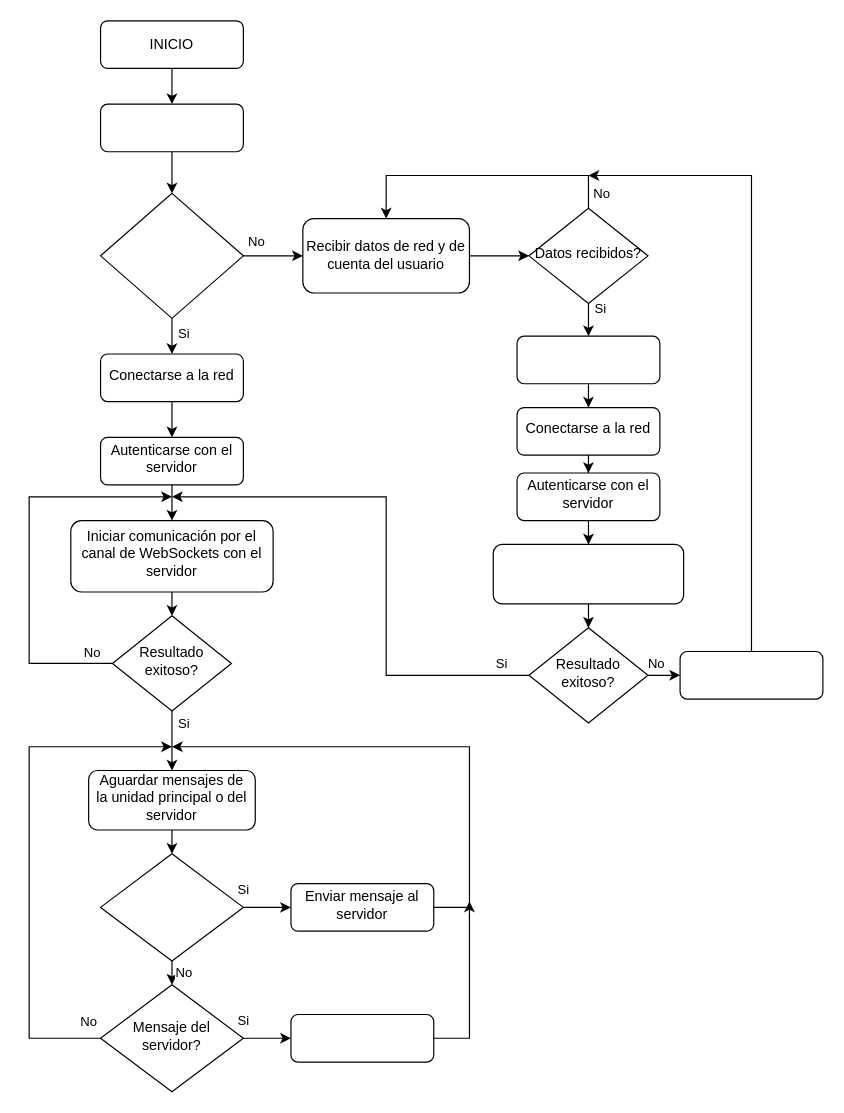
Some shapes in this 844 by 1113 pixel diagram are drawn without their labels. The shapes that lost their labels are listed below. From the top down, each one's centre as x and y in pixels, then its label:
[171,127]: Configurar como access point
[171,255]: Datos de red almacenados?
[588,359]: Almacenar datos de red
[588,573]: Request de creación o actualización de cuenta al servidor
[751,674]: Informar al usuario
[171,907]: Mensaje de la unidad principal?
[362,1037]: Enviar mensaje a la unidad principal
